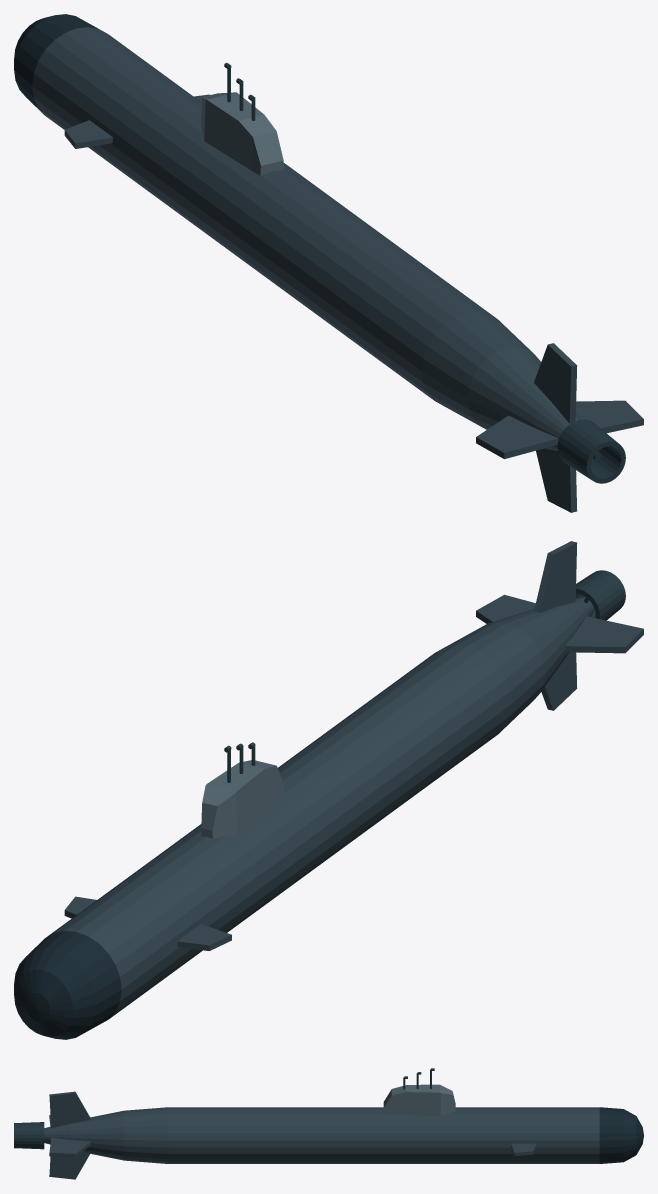
File: archive-virginia-block-i.glb
3 views of the same model, one above another, from view 1: azimuth 30°, elevation 25°; view 2: azimuth 150°, elevation 25°; view 3: azimuth 270°, elevation 25° (orthographic). The views are drawn at different scales.
Visible parts, largest first — view 1: archive-virginia-block-i-pressure_hull.005-geometry, archive-virginia-block-i-submarine_sail.005-geometry, archive-virginia-block-i-screw_0.005-geometry, archive-virginia-block-i-stern_rudder_3-geometry, archive-virginia-block-i-stern_rudder_2-geometry, archive-virginia-block-i-stern_rudder_1-geometry, archive-virginia-block-i-stern_rudder_0-geometry, archive-virginia-block-i-diving_plane_-1.005-geometry; view 2: archive-virginia-block-i-pressure_hull.005-geometry, archive-virginia-block-i-submarine_sail.005-geometry, archive-virginia-block-i-stern_rudder_3-geometry, archive-virginia-block-i-stern_rudder_2-geometry, archive-virginia-block-i-screw_0.005-geometry, archive-virginia-block-i-stern_rudder_1-geometry, archive-virginia-block-i-stern_rudder_0-geometry, archive-virginia-block-i-diving_plane_-1.005-geometry; view 3: archive-virginia-block-i-pressure_hull.005-geometry, archive-virginia-block-i-submarine_sail.005-geometry, archive-virginia-block-i-stern_rudder_3-geometry, archive-virginia-block-i-screw_0.005-geometry, archive-virginia-block-i-stern_rudder_1-geometry, archive-virginia-block-i-stern_rudder_0-geometry, archive-virginia-block-i-diving_plane_1.005-geometry.
Boxes of the visible parts, bbox=[...] form: archive-virginia-block-i-pressure_hull.005-geometry: bbox=[14, 14, 580, 450]; archive-virginia-block-i-submarine_sail.005-geometry: bbox=[201, 62, 284, 175]; archive-virginia-block-i-screw_0.005-geometry: bbox=[557, 419, 625, 483]; archive-virginia-block-i-stern_rudder_3-geometry: bbox=[534, 343, 577, 423]; archive-virginia-block-i-stern_rudder_2-geometry: bbox=[476, 415, 558, 459]; archive-virginia-block-i-stern_rudder_1-geometry: bbox=[536, 448, 577, 512]; archive-virginia-block-i-stern_rudder_0-geometry: bbox=[576, 400, 643, 433]; archive-virginia-block-i-diving_plane_-1.005-geometry: bbox=[64, 120, 113, 148]; archive-virginia-block-i-pressure_hull.005-geometry: bbox=[14, 597, 594, 1039]; archive-virginia-block-i-submarine_sail.005-geometry: bbox=[201, 742, 284, 838]; archive-virginia-block-i-stern_rudder_3-geometry: bbox=[534, 541, 577, 612]; archive-virginia-block-i-stern_rudder_2-geometry: bbox=[565, 616, 643, 653]; archive-virginia-block-i-screw_0.005-geometry: bbox=[575, 570, 625, 620]; archive-virginia-block-i-stern_rudder_1-geometry: bbox=[541, 652, 577, 710]; archive-virginia-block-i-stern_rudder_0-geometry: bbox=[476, 594, 535, 623]; archive-virginia-block-i-diving_plane_-1.005-geometry: bbox=[177, 924, 231, 950]; archive-virginia-block-i-pressure_hull.005-geometry: bbox=[44, 1107, 643, 1163]; archive-virginia-block-i-submarine_sail.005-geometry: bbox=[383, 1068, 455, 1116]; archive-virginia-block-i-stern_rudder_3-geometry: bbox=[49, 1091, 90, 1128]; archive-virginia-block-i-screw_0.005-geometry: bbox=[14, 1122, 44, 1149]; archive-virginia-block-i-stern_rudder_1-geometry: bbox=[49, 1152, 89, 1179]; archive-virginia-block-i-stern_rudder_0-geometry: bbox=[49, 1137, 90, 1157]; archive-virginia-block-i-diving_plane_1.005-geometry: bbox=[511, 1143, 537, 1155].
Bounding box in the file's own units: 1.58 × 1.93 × 9.94.
